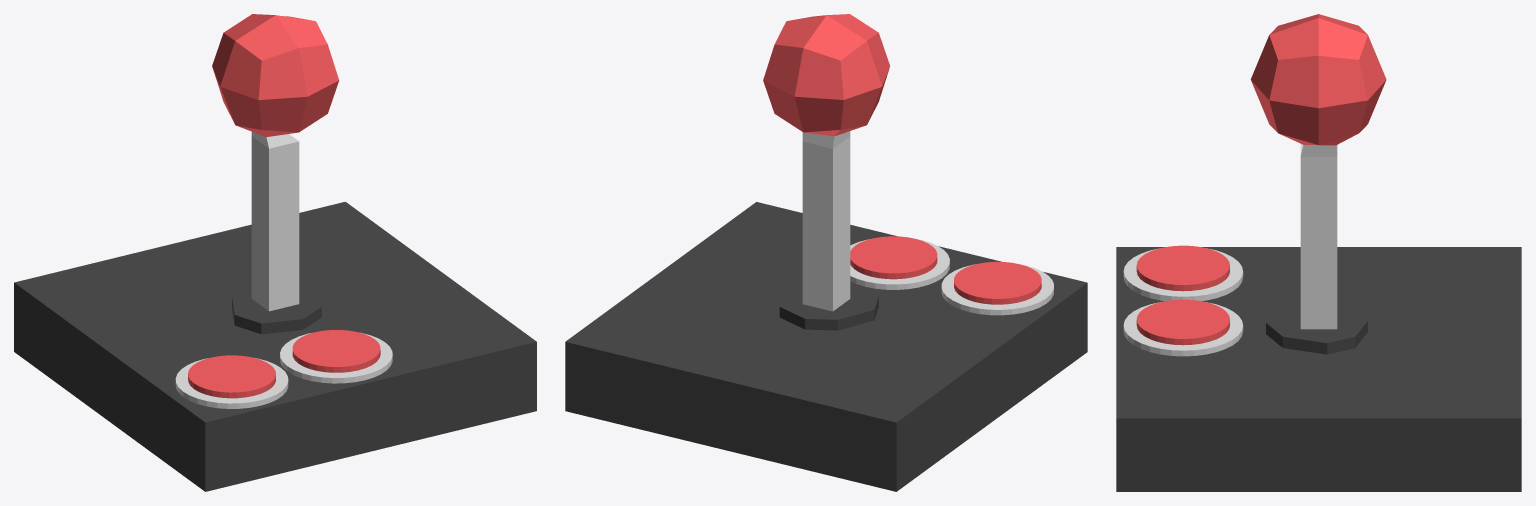
File: Controller.glb
3 views of the same model, side by side, from view 1: azimuth 30°, elevation 25°; view 2: azimuth 150°, elevation 25°; view 3: azimuth 270°, elevation 25° (orthographic). The views are drawn at different scales.
Parts seen in each view (by area): view 1: Cube, Ball, Stick, ButtonBase.004, ButtonBase.003, ButtonBase, ButtonBase.001; view 2: Cube, Ball, Stick, ButtonBase.004, ButtonBase.003, ButtonBase.001, ButtonBase; view 3: Cube, Ball, Stick, ButtonBase.003, ButtonBase.004, ButtonBase, ButtonBase.001.
Boxes of the visible parts, x1,y1,x2,y2 form: Cube: (14, 201, 536, 491); Ball: (212, 14, 339, 136); Stick: (251, 132, 299, 311); ButtonBase.004: (292, 330, 380, 372); ButtonBase.003: (188, 355, 275, 398); ButtonBase: (280, 332, 392, 383); ButtonBase.001: (175, 358, 288, 408); Cube: (565, 202, 1087, 491); Ball: (763, 14, 889, 136); Stick: (802, 131, 850, 311); ButtonBase.004: (850, 236, 937, 279); ButtonBase.003: (954, 261, 1041, 304); ButtonBase.001: (941, 264, 1053, 315); ButtonBase: (850, 239, 949, 289); Cube: (1116, 247, 1521, 491); Ball: (1250, 14, 1386, 145); Stick: (1300, 144, 1337, 329); ButtonBase.003: (1136, 245, 1229, 291); ButtonBase.004: (1136, 299, 1229, 345); ButtonBase: (1123, 302, 1243, 356); ButtonBase.001: (1123, 248, 1243, 300).
Bounding box in the file's own units: 2 × 2.11 × 2.
